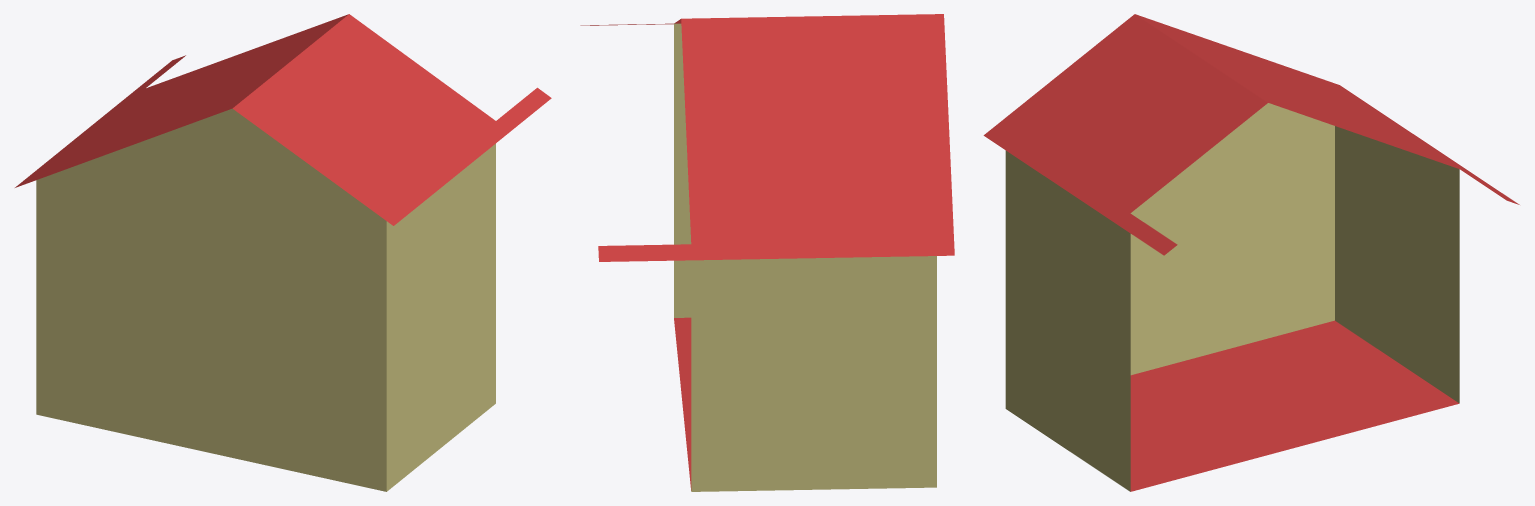
The picture shows the model from 3 angles, left to right: view 1: azimuth 30°, elevation 25°; view 2: azimuth 150°, elevation 25°; view 3: azimuth 270°, elevation 25°; orthographic projection. The views are drawn at different scales.
Bounding box in the file's own units: 15.83 × 16.64 × 12.04.
